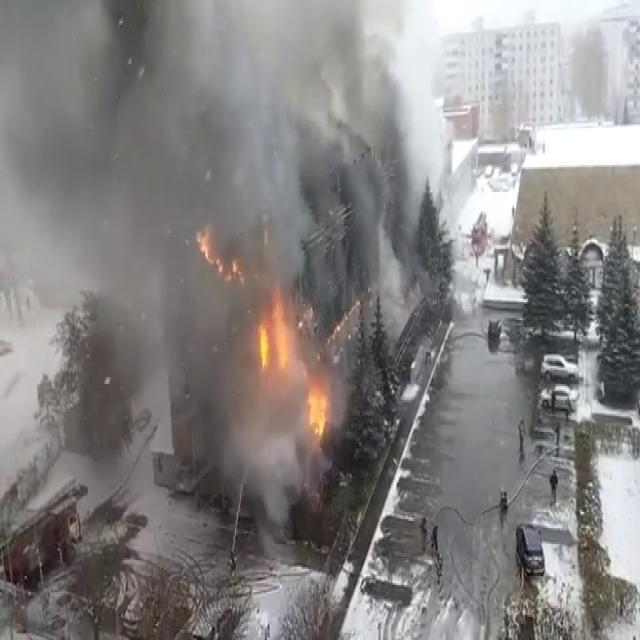Fire: (255, 272, 333, 446)
Smoke: (0, 0, 424, 528)
